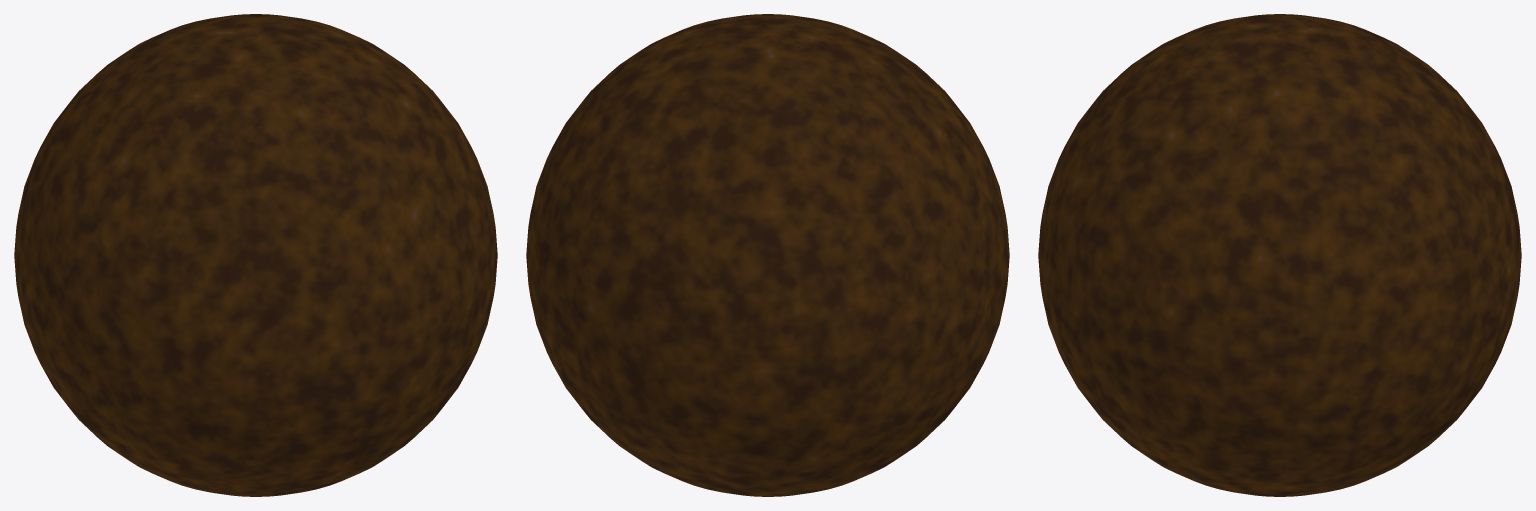
Rendered from red.glb.
3 views of the same model, side by side, from view 1: azimuth 30°, elevation 25°; view 2: azimuth 150°, elevation 25°; view 3: azimuth 270°, elevation 25° (orthographic).
Visible parts, largest first — view 1: Sphere; view 2: Sphere; view 3: Sphere.
Part boxes in pixels (bbox=[...]): Sphere: bbox=[14, 14, 497, 496]; Sphere: bbox=[526, 14, 1009, 496]; Sphere: bbox=[1038, 14, 1521, 496].
Bounding box in the file's own units: 2 × 2 × 2.
1 material, 1 textured.
